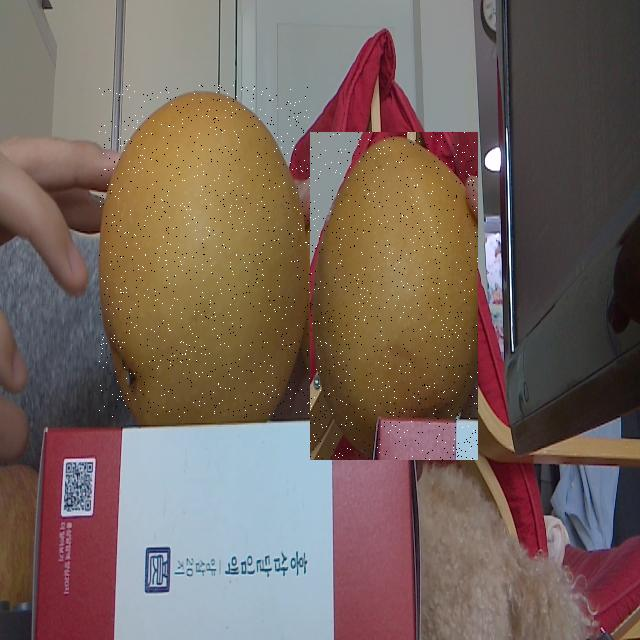pear: (99, 85, 310, 418), (310, 132, 478, 460)
